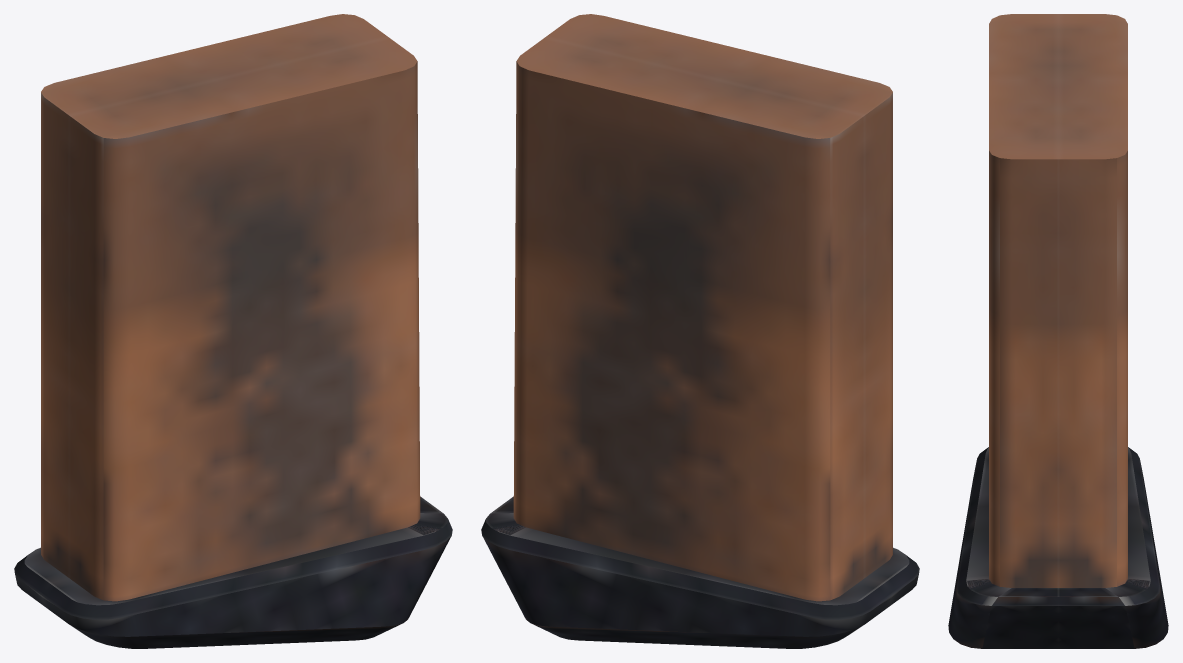
Rendered from weapon_autorifle_mag.fbx.
The picture shows the model from 3 angles, left to right: view 1: azimuth 30°, elevation 25°; view 2: azimuth 150°, elevation 25°; view 3: azimuth 270°, elevation 25°; orthographic projection. The views are drawn at different scales.
Visible parts, largest first — view 1: Auto_Magazine; view 2: Auto_Magazine; view 3: Auto_Magazine.
Boxes of the visible parts, x1,y1,x2,y2 form: Auto_Magazine: (14,14,452,648); Auto_Magazine: (481,14,919,648); Auto_Magazine: (948,14,1168,648).
Bounding box in the file's own units: 6.2 × 8.75 × 3.41.
